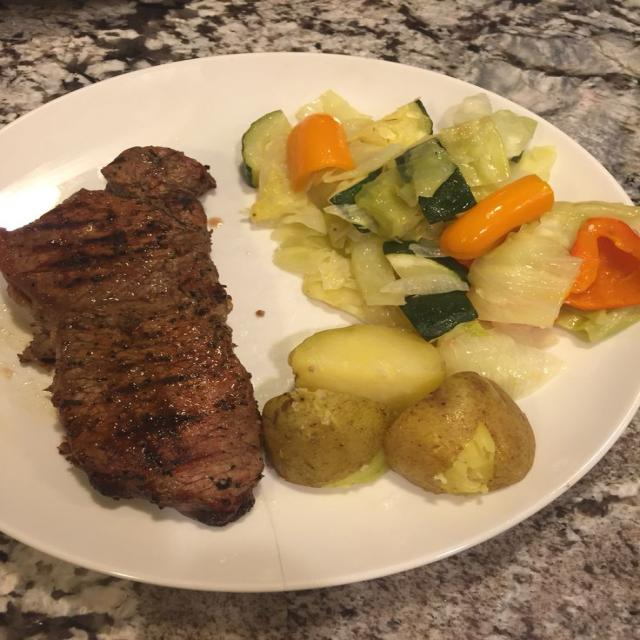beef steak: (0, 147, 263, 526)
carrot: (470, 222, 578, 328), (440, 175, 553, 260), (287, 114, 355, 190)
frayed potatoe: (385, 372, 535, 494), (289, 324, 443, 414), (263, 388, 390, 487)
